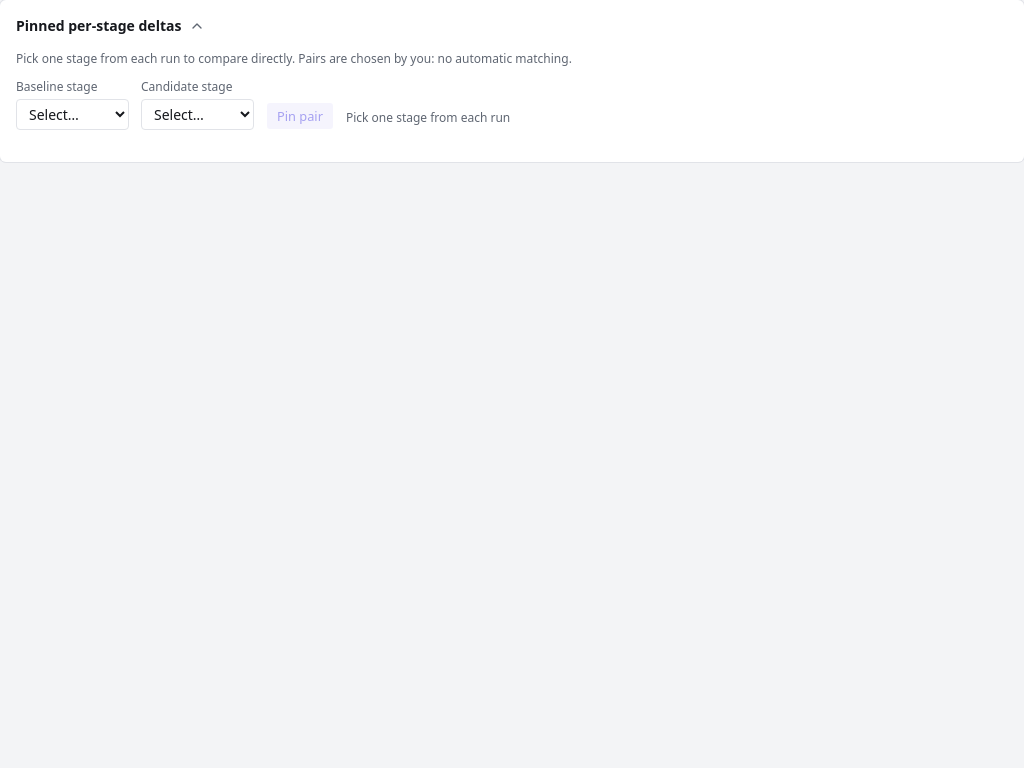
pins a base/candidate stage pair and shows signed per-field deltas
Select "Exchange 1" in the dropdown labelled "Baseline stage" at (72, 115), box [16,99,129,130]
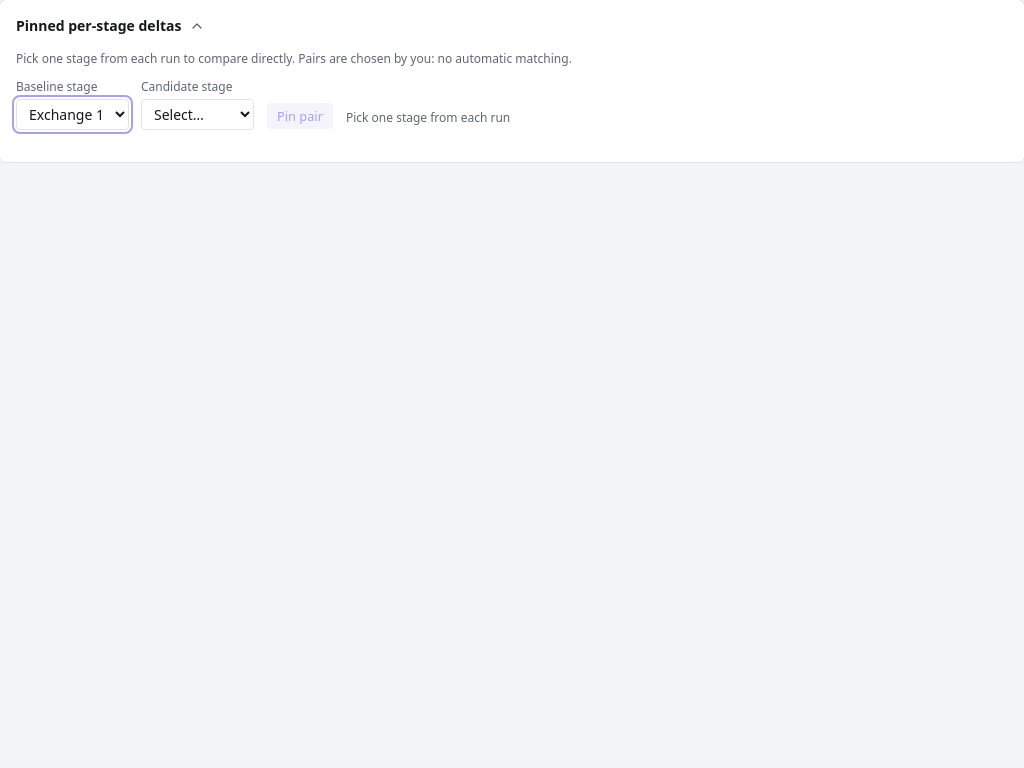
Select "Exchange 2" in the dropdown labelled "Candidate stage" at (198, 115), box [141,99,254,130]
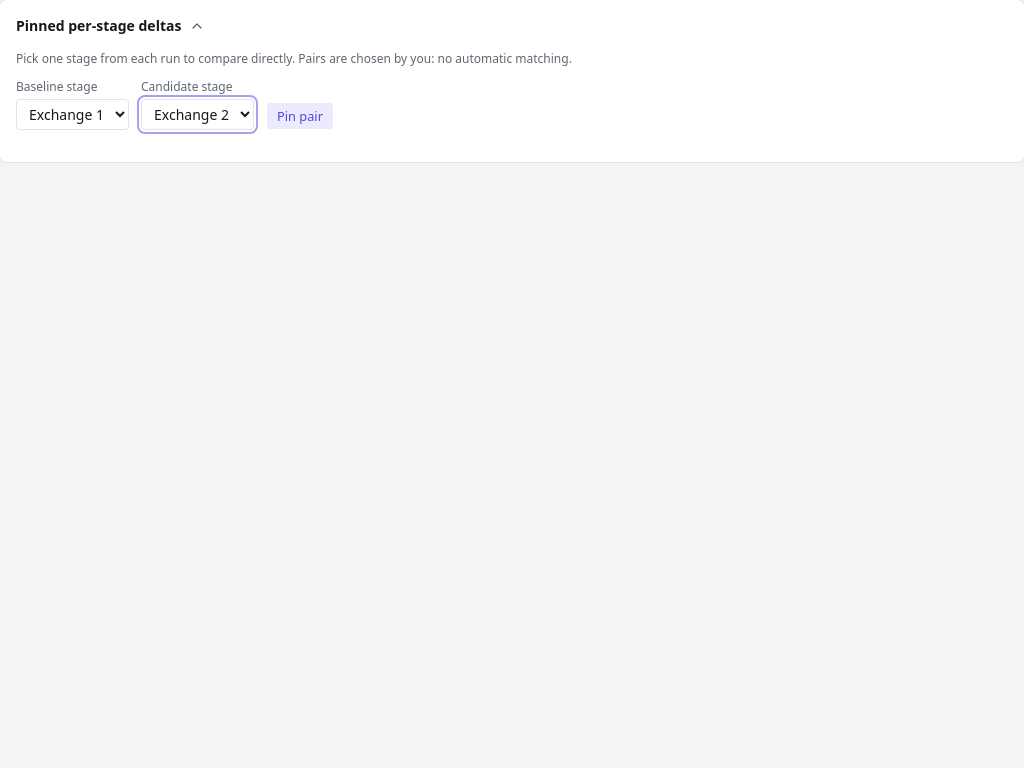
Click the button "Pin pair" at (300, 116), box [266,102,334,130]
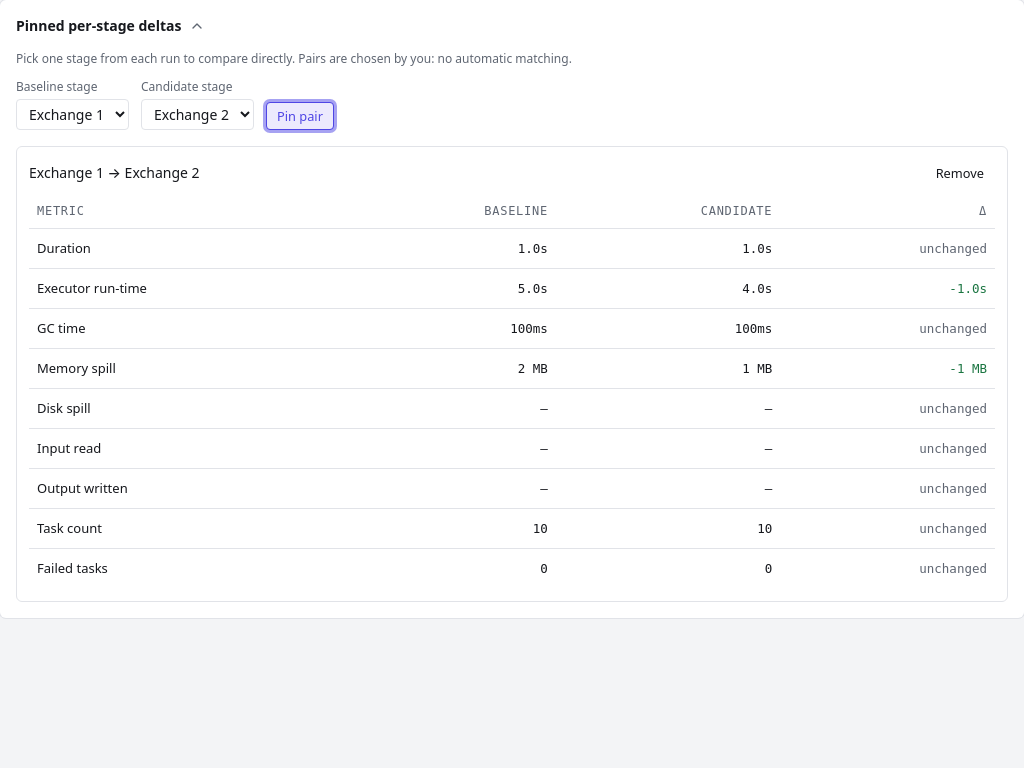
Check: the text "Exchange 1 → Exchange 2" is shown, box [29,163,200,183]
Check: the text "-1 MB" is shown, box [780,348,995,388]
Check: the text "-1.0s" is shown, box [780,268,995,308]
Click the button "Remove" at (960, 173), box [925,159,995,187]
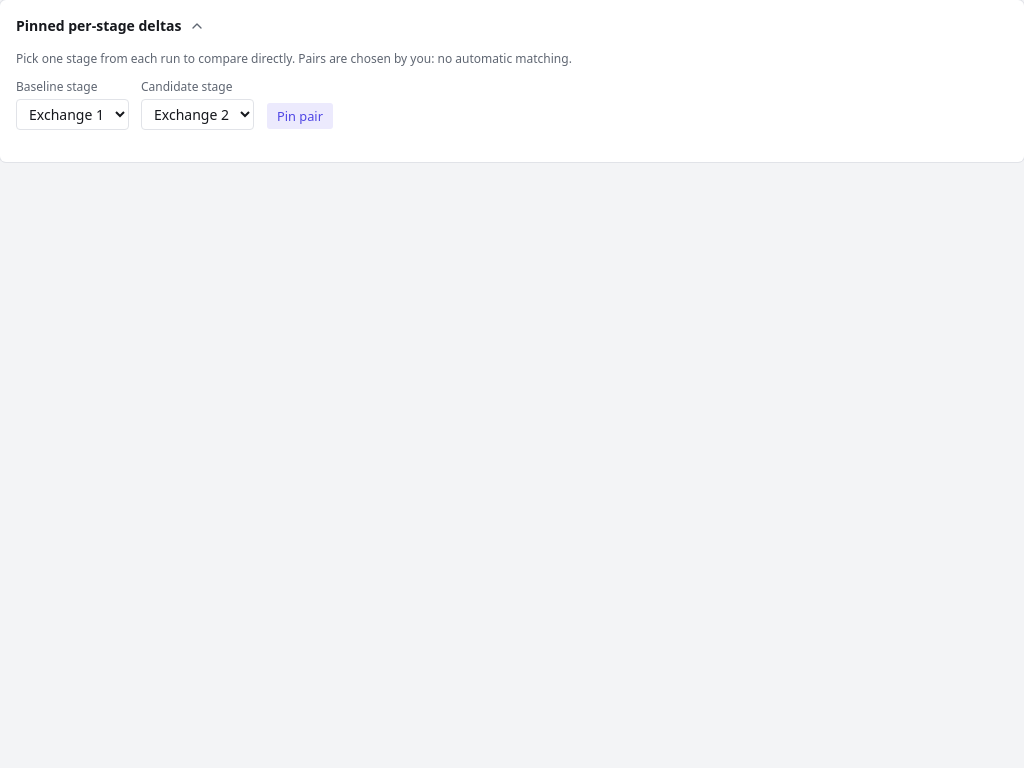
Check: the text "-1 MB" is gone
